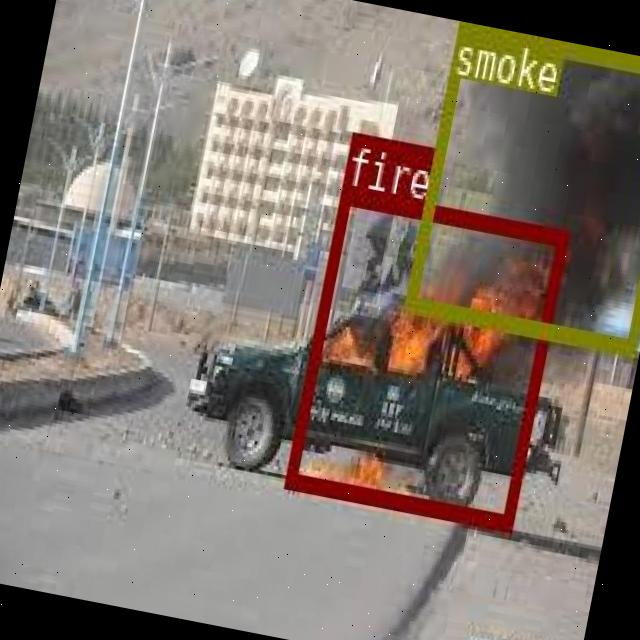fire: (284, 188, 566, 528)
smoke: (402, 21, 640, 354)
